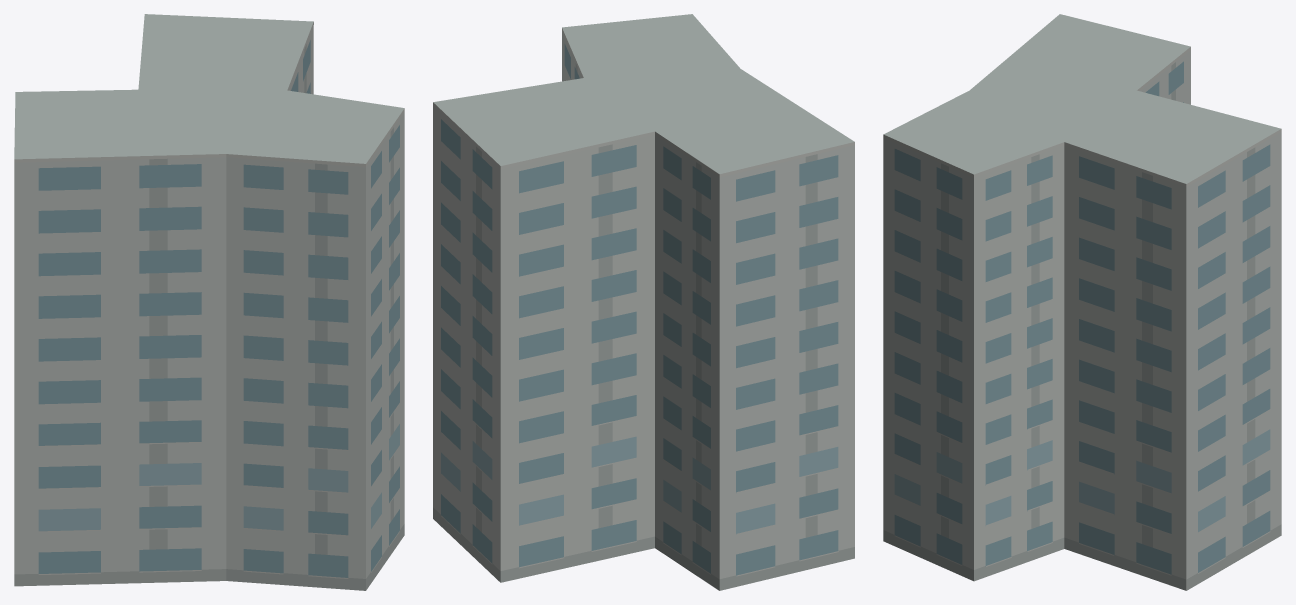
Rendered from residential-8f74fbbc-2705-4ca8-8c86-0446036d41df.glb.
3 views of the same model, side by side, from view 1: azimuth 30°, elevation 25°; view 2: azimuth 150°, elevation 25°; view 3: azimuth 270°, elevation 25° (orthographic). The views are drawn at different scales.
Visible parts, largest first — view 1: residential-8f74fbbc-2705-4ca8-8c86-0446036d41df.tmp; view 2: residential-8f74fbbc-2705-4ca8-8c86-0446036d41df.tmp; view 3: residential-8f74fbbc-2705-4ca8-8c86-0446036d41df.tmp.
Boxes of the visible parts, x1,y1,x2,y2 form: residential-8f74fbbc-2705-4ca8-8c86-0446036d41df.tmp: (14,14,404,590); residential-8f74fbbc-2705-4ca8-8c86-0446036d41df.tmp: (433,14,854,590); residential-8f74fbbc-2705-4ca8-8c86-0446036d41df.tmp: (883,14,1281,590).
Size of the model in its own units: 27.81 by 31 by 27.51.
